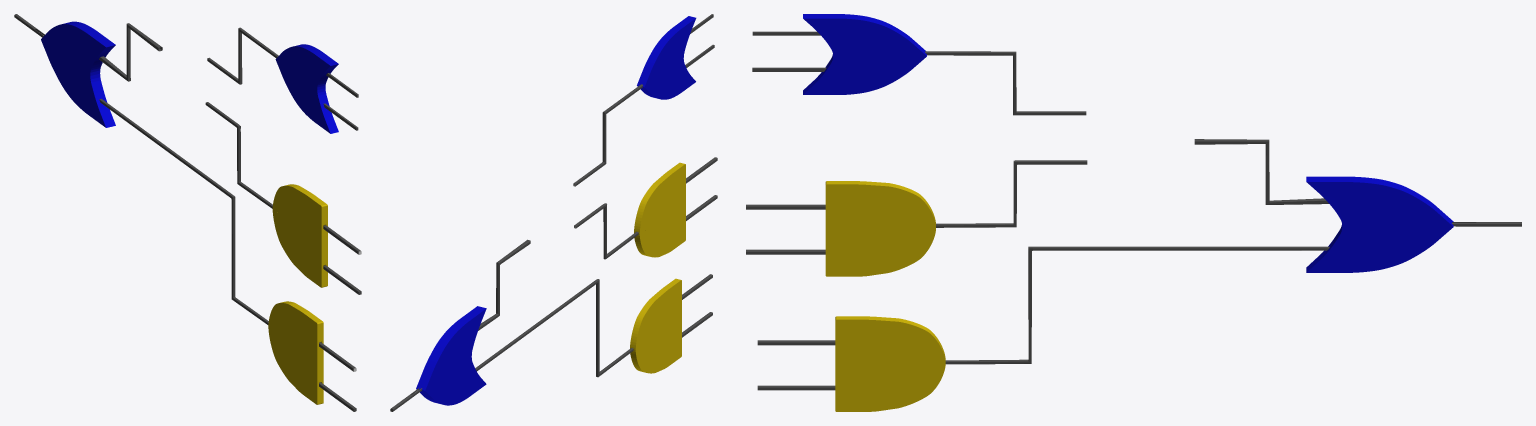
File: fase2Exemplo2.fbx
The picture shows the model from 3 angles, left to right: view 1: azimuth 30°, elevation 25°; view 2: azimuth 150°, elevation 25°; view 3: azimuth 270°, elevation 25°; orthographic projection. The views are drawn at different scales.
Parts seen in each view (by area): view 1: PortaOuSozinha.002, PortaESozinha.003, PortaESozinha, PortaOuSozinha.001, Plano.004, Plano.001, Fio, Plano.000, PortaESozinha.001, PortaESozinha.002, PortaOuSozinha; view 2: PortaOuSozinha.002, PortaESozinha.003, PortaESozinha, PortaOuSozinha.001, Plano.004, Plano.001, Fio, Plano.000, PortaESozinha.001, PortaESozinha.002; view 3: PortaOuSozinha.002, PortaESozinha, PortaESozinha.003, PortaOuSozinha.001, Plano.004, Plano.001, Fio, Plano.000, PortaESozinha.001, PortaESozinha.002, PortaOuSozinha.
Part boxes in pixels (bbox=[...]): PortaOuSozinha.002: bbox=[41, 21, 115, 127]; PortaESozinha.003: bbox=[268, 301, 323, 404]; PortaESozinha: bbox=[272, 184, 327, 287]; PortaOuSozinha.001: bbox=[275, 44, 338, 133]; Plano.004: bbox=[99, 98, 268, 324]; Plano.001: bbox=[14, 14, 162, 81]; Fio: bbox=[207, 27, 278, 84]; Plano.000: bbox=[205, 102, 277, 212]; PortaESozinha.001: bbox=[323, 225, 361, 294]; PortaESozinha.002: bbox=[319, 342, 356, 411]; PortaOuSozinha: bbox=[323, 73, 358, 130]; PortaOuSozinha.002: bbox=[416, 306, 486, 405]; PortaESozinha.003: bbox=[630, 278, 681, 373]; PortaESozinha: bbox=[634, 162, 685, 257]; PortaOuSozinha.001: bbox=[637, 16, 696, 99]; Plano.004: bbox=[475, 279, 633, 377]; Plano.001: bbox=[390, 239, 530, 411]; Fio: bbox=[573, 84, 642, 186]; Plano.000: bbox=[574, 203, 645, 259]; PortaESozinha.001: bbox=[686, 157, 717, 220]; PortaESozinha.002: bbox=[682, 274, 712, 337]; PortaOuSozinha.002: bbox=[1306, 176, 1453, 272]; PortaESozinha: bbox=[825, 181, 935, 276]; PortaESozinha.003: bbox=[835, 316, 945, 411]; PortaOuSozinha.001: bbox=[803, 14, 926, 94]; Plano.004: bbox=[945, 246, 1329, 364]; Plano.001: bbox=[1194, 139, 1521, 226]; Fio: bbox=[925, 51, 1086, 115]; Plano.000: bbox=[936, 160, 1087, 227]; PortaESozinha.001: bbox=[746, 204, 825, 254]; PortaESozinha.002: bbox=[757, 340, 835, 390]; PortaOuSozinha: bbox=[752, 31, 826, 71].
Bounding box in the file's own units: 3.27 × 111 × 197.
